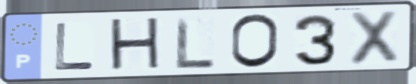3: (291, 12, 340, 67)
H: (107, 15, 164, 75)
L: (174, 16, 218, 72), (53, 22, 98, 73)
O: (228, 12, 281, 71)
X: (346, 8, 401, 67)
